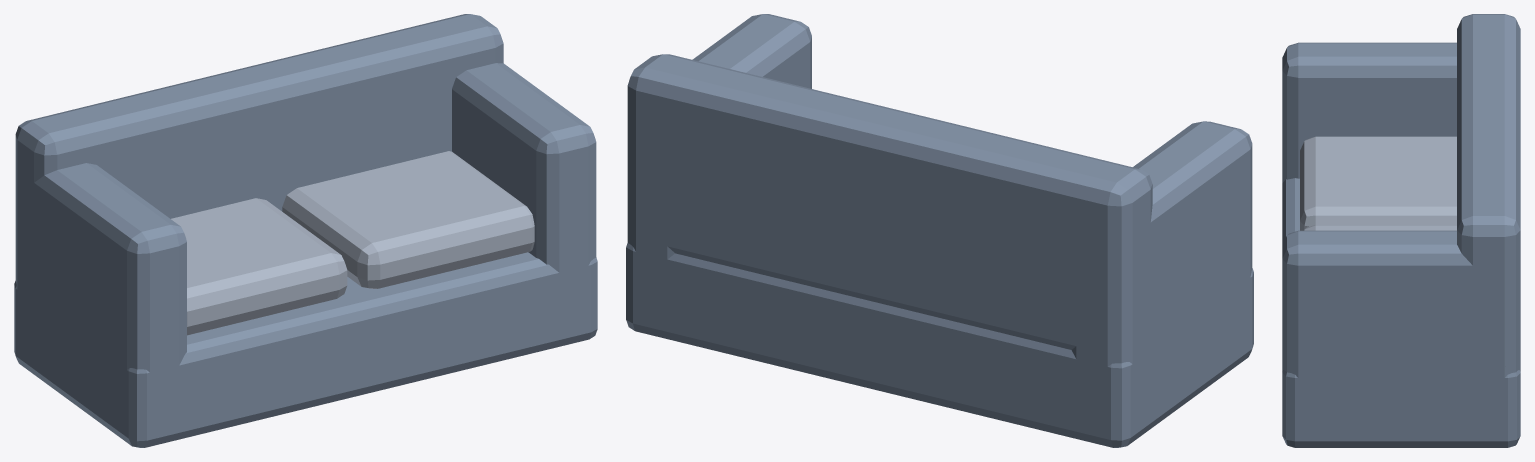
Rendered from fur_sofa.glb.
3 views of the same model, side by side, from view 1: azimuth 30°, elevation 25°; view 2: azimuth 150°, elevation 25°; view 3: azimuth 270°, elevation 25° (orthographic). The views are drawn at different scales.
Visible parts, largest first — view 1: fur_sofa; view 2: fur_sofa; view 3: fur_sofa.
Boxes of the visible parts, <box> form: fur_sofa: <box>14,14,597,447</box>; fur_sofa: <box>626,14,1253,447</box>; fur_sofa: <box>1282,14,1520,447</box>.
Size of the model in its own units: 1.6 by 0.8 by 0.75.
